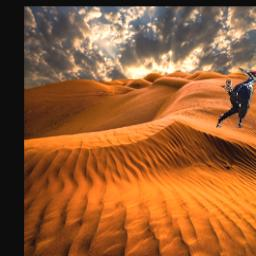Woodpecker: (216, 67, 256, 128)
